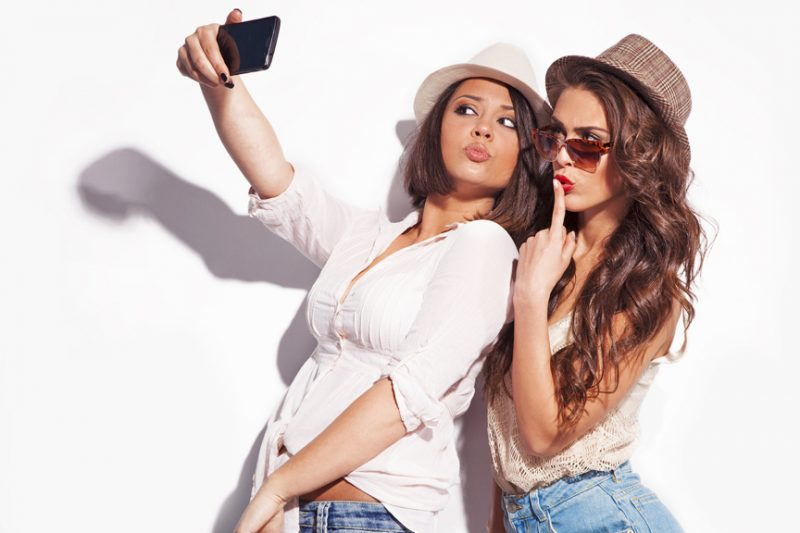person: (344, 39, 540, 408), (532, 25, 688, 436)
